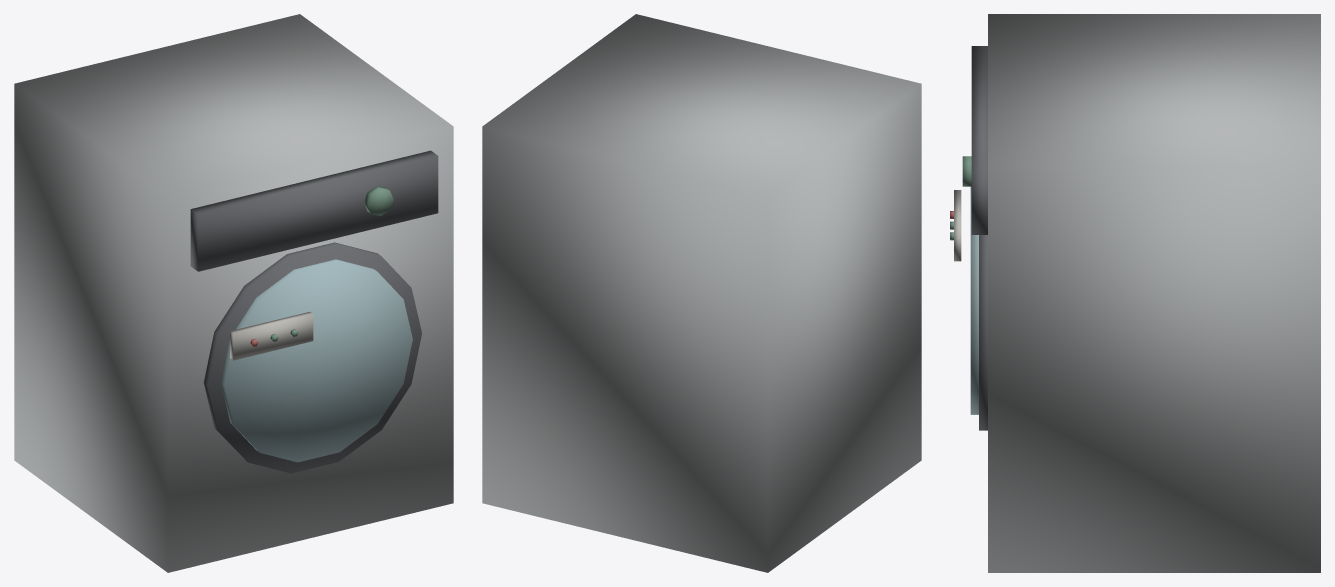
File: industrial_washer__reinforced.glb
The picture shows the model from 3 angles, left to right: view 1: azimuth 30°, elevation 25°; view 2: azimuth 150°, elevation 25°; view 3: azimuth 270°, elevation 25°; orthographic projection. The views are drawn at different scales.
Parts seen in each view (by area): view 1: world; view 2: world; view 3: world.
Part boxes in pixels (left/top/right/bottom): world: left=14, top=14, right=453, bottom=572; world: left=482, top=14, right=921, bottom=572; world: left=950, top=14, right=1320, bottom=572.
Size of the model in its own units: 0.9064 by 1.14 by 0.9409.
